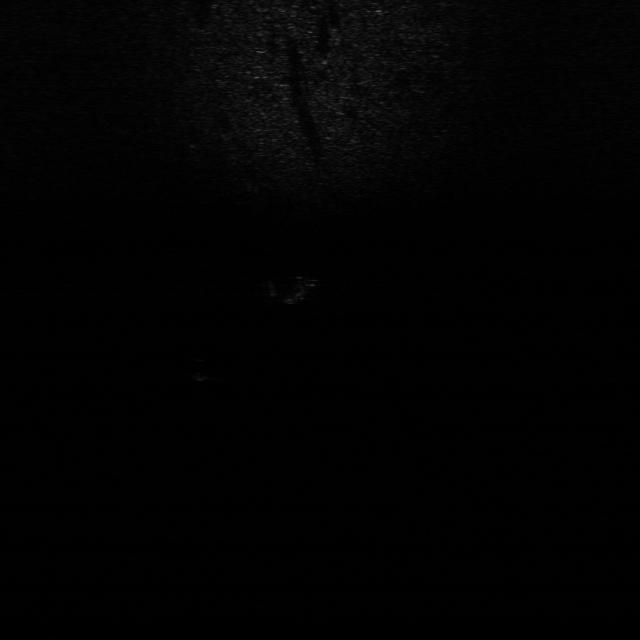ball: (184, 356, 217, 384)
human body: (262, 272, 326, 305)
